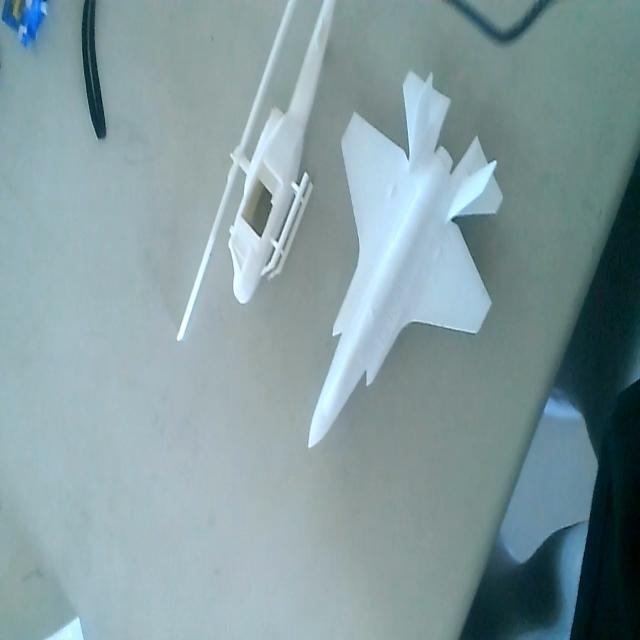Helicopter: (172, 0, 335, 342)
Jet: (309, 67, 505, 453)
